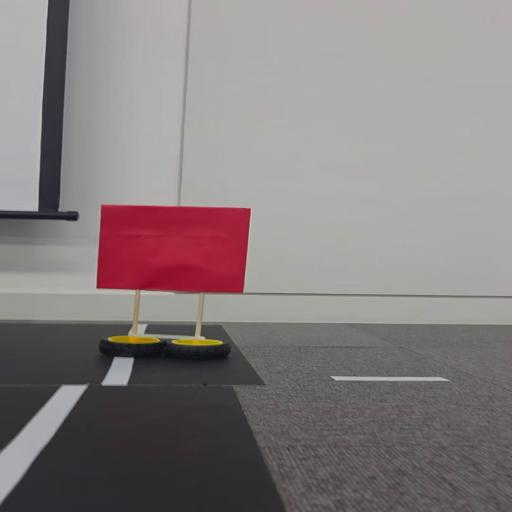Sign_A: (88, 203, 258, 366)
